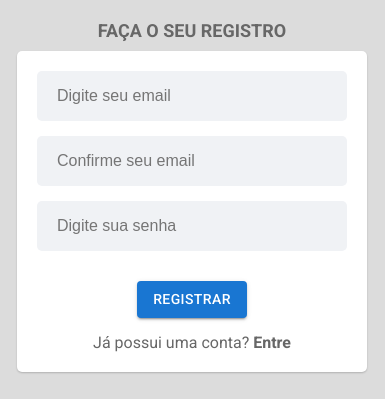
Scenario: Signup component › shows error message when emails do not match
Type "test@test.com" into the field with placeholder "Digite seu email" at {"x": 192, "y": 96}, box [37, 71, 347, 121]
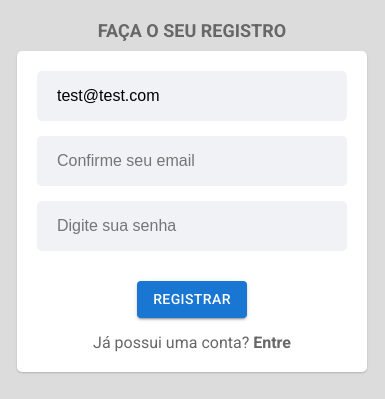
Type "test2@test.com" into the field with placeholder "Confirme seu email" at {"x": 192, "y": 161}, box [37, 136, 347, 186]
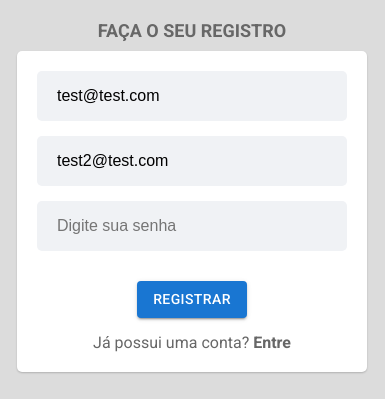
Type "1234" into the password field with placeholder "Digite sua senha" at {"x": 192, "y": 226}, box [37, 201, 347, 251]
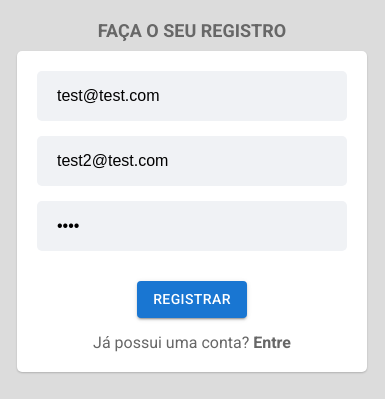
Click the button "Registrar" at {"x": 192, "y": 300}, box [137, 281, 247, 318]
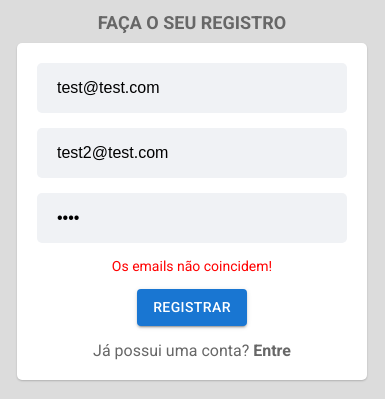
Result: the text "Os emails não coincidem!" is shown at [112, 258, 272, 274]
